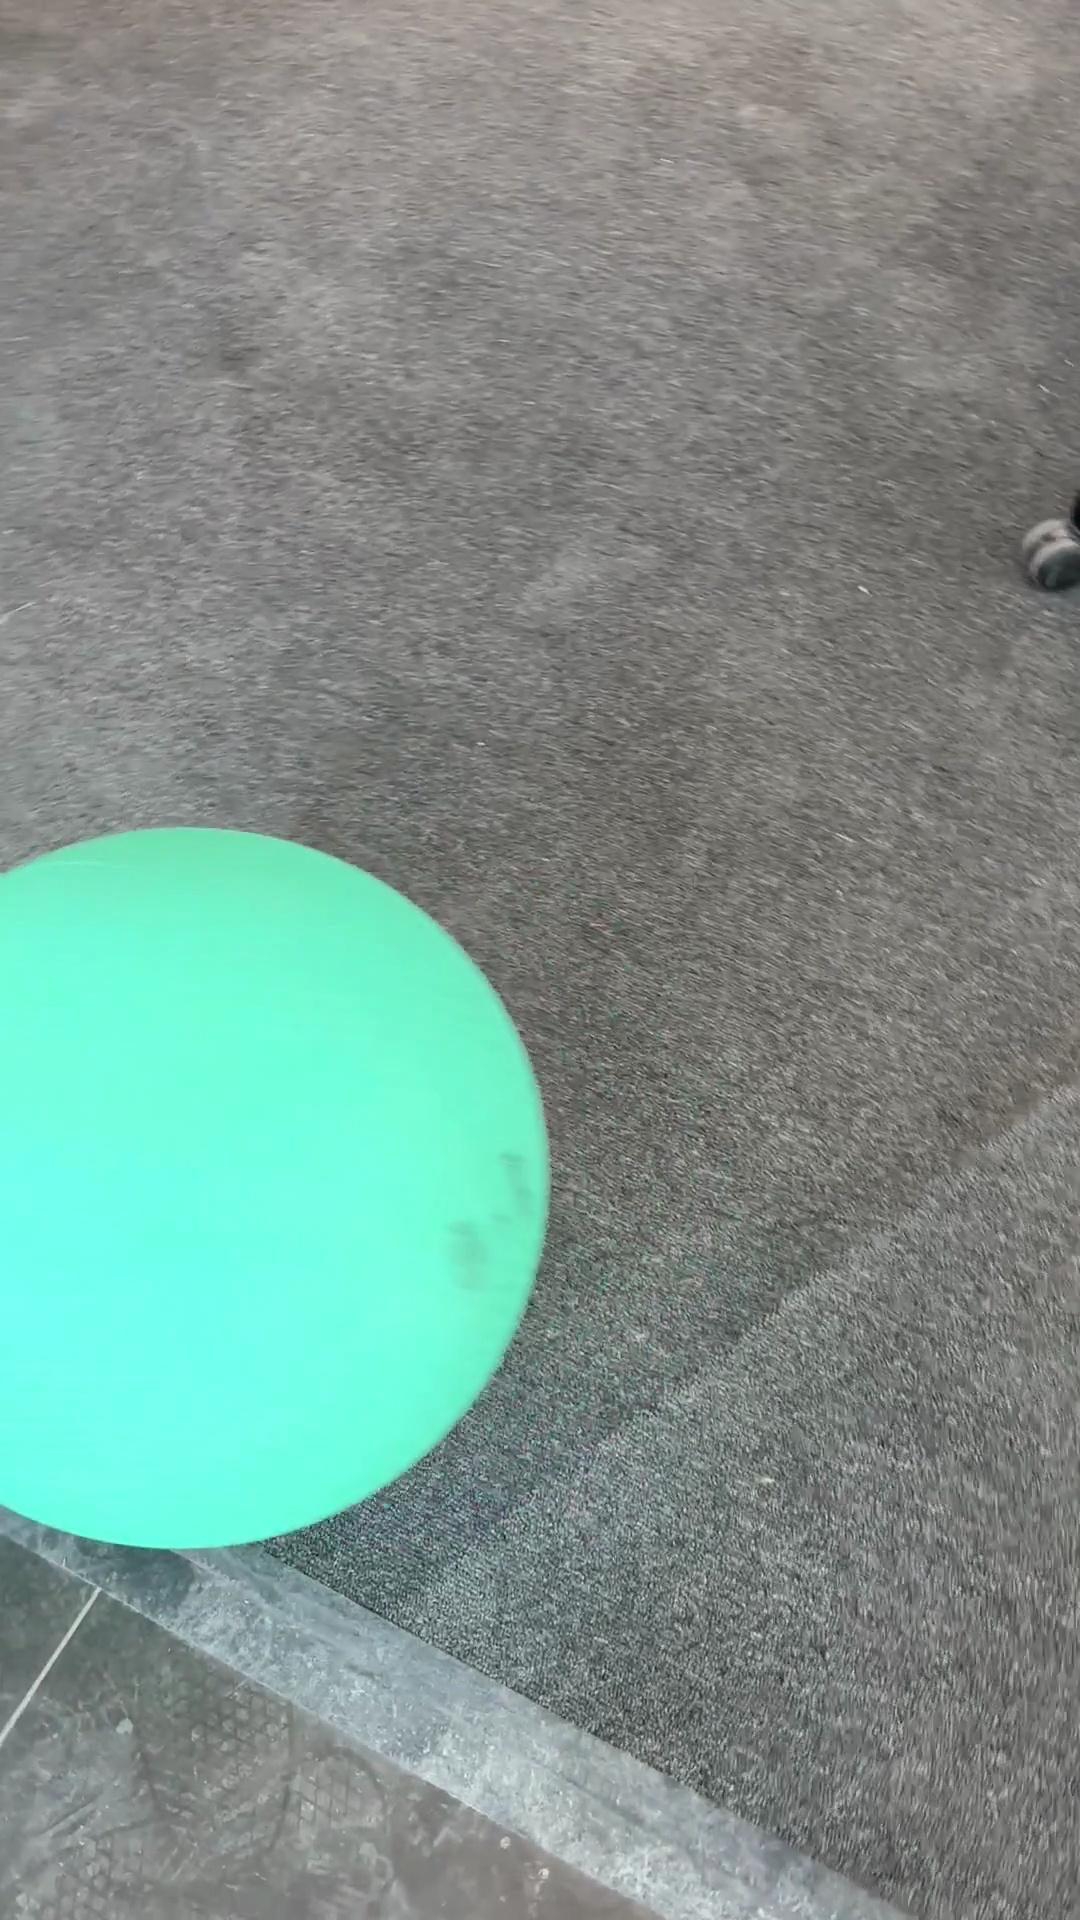ALGAE: (1, 822, 553, 1551)
